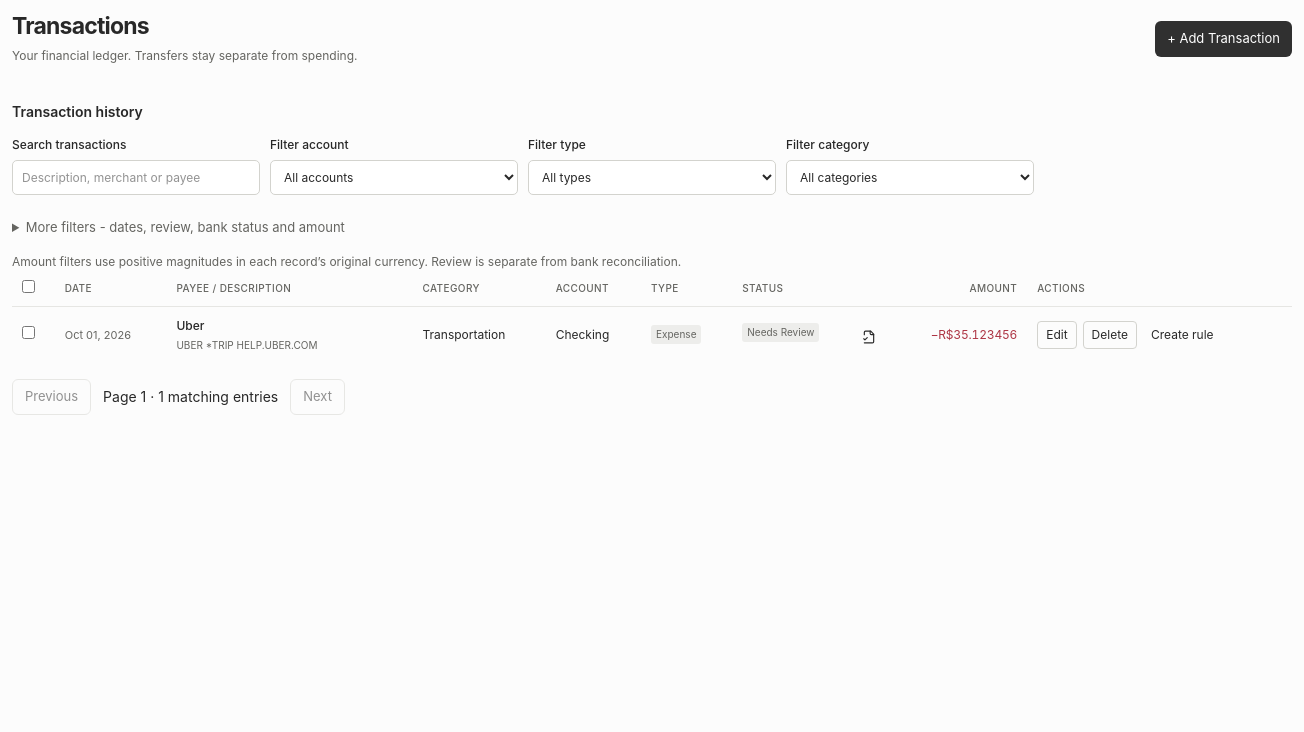
Test: preserves selection and displays failure after a rejected bulk update
The image size is (1304, 732).
Click the checkbox named "Select Uber" at {"x": 28, "y": 332}, box [22, 326, 35, 339]
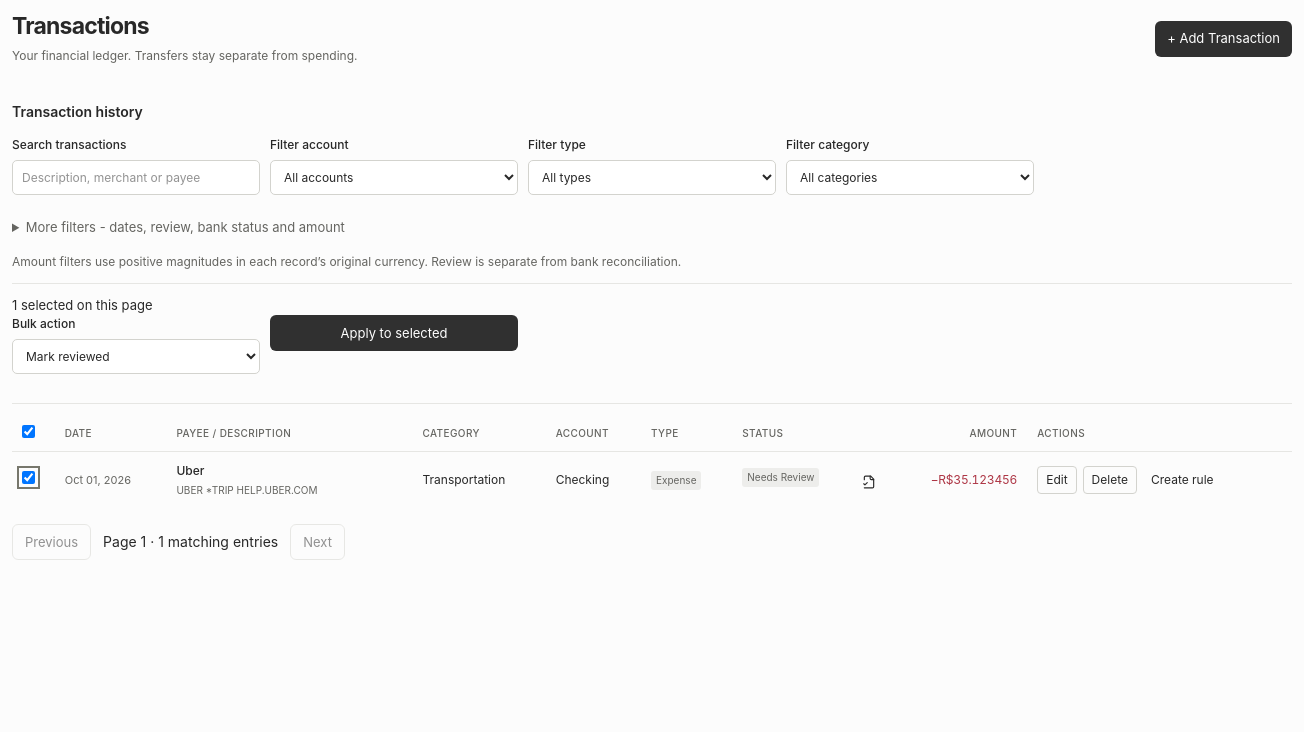
Click the button "Apply to selected" at {"x": 394, "y": 333}, box [270, 315, 518, 351]
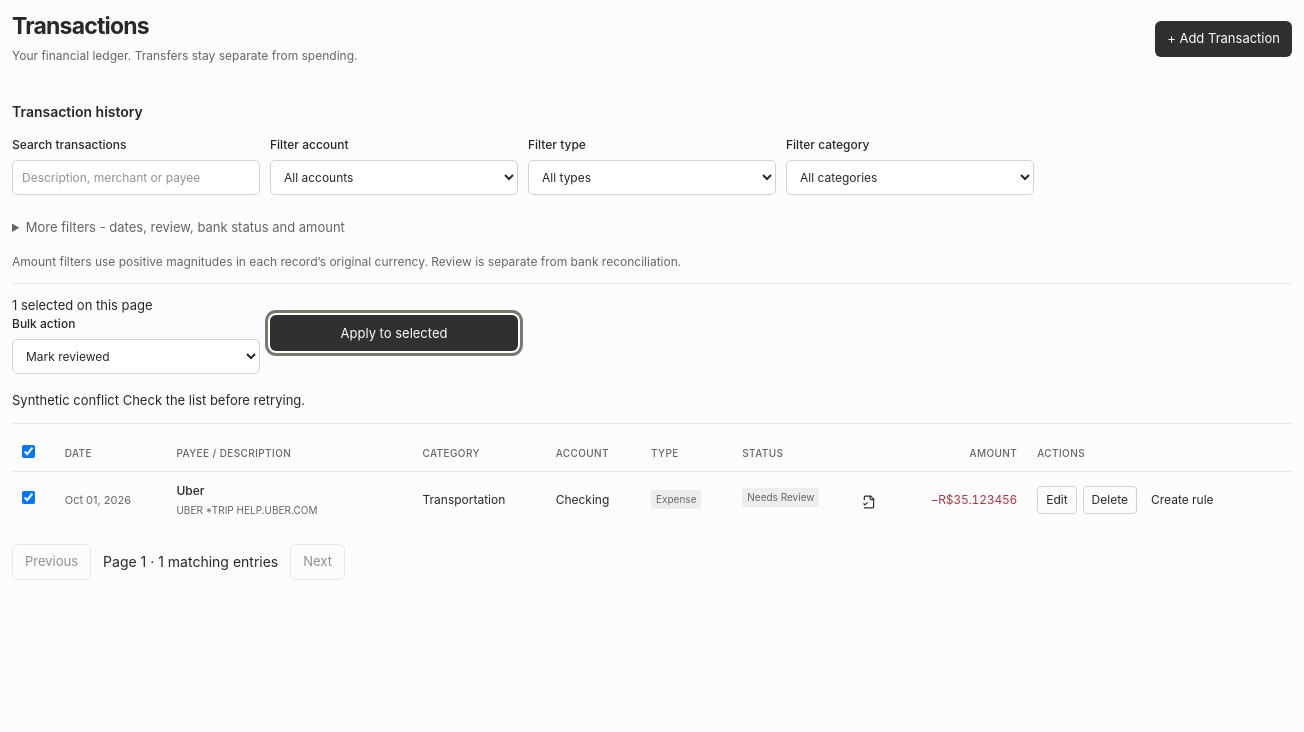
Check: the checkbox named "Select Uber" is checked, box [22, 491, 35, 504]
Check: the text "1 selected on this page" is shown, box [12, 297, 152, 313]
Check: the message "Synthetic conflict Check the list before retrying." is shown, box [12, 392, 305, 408]
